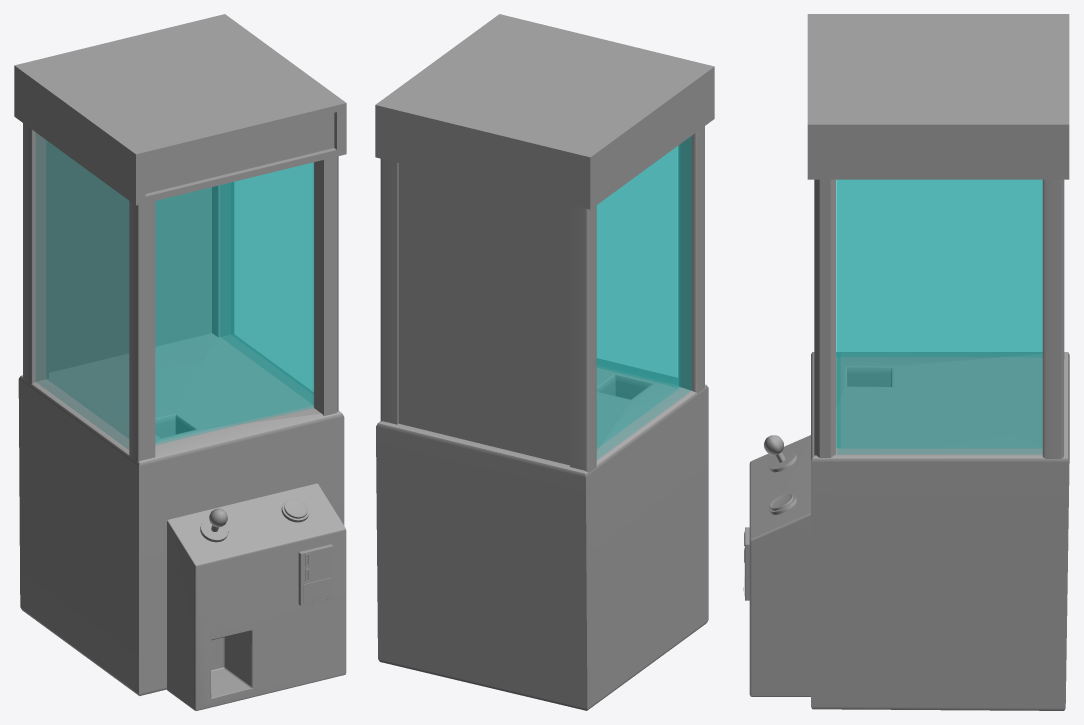
File: Claw_Machine_Full_UV.fbx
3 views of the same model, side by side, from view 1: azimuth 30°, elevation 25°; view 2: azimuth 150°, elevation 25°; view 3: azimuth 270°, elevation 25° (orthographic). The views are drawn at different scales.
Visible parts, largest first — view 1: polySurface3, pCube50, polySurface4, pCube11, pCube30, pCube44, pCube31, pCube27, polySurface5, pCube47, pCube26, pCube48 (+1 smaller); view 2: polySurface3, pCube30, polySurface4, pCube44, pCube50, pCube47, pCube27, pCube48; view 3: polySurface3, pCube31, polySurface4, pCube44, pCube11, pCube48, pCube26, pCube50.
Boxes of the visible parts, box(x1,y1,x2,y2) form: polySurface3: box(18, 333, 344, 695); pCube50: box(155, 162, 313, 444); polySurface4: box(14, 14, 346, 205); pCube11: box(166, 483, 346, 710); pCube30: box(49, 142, 211, 372); pCube44: box(36, 133, 128, 449); pCube31: box(231, 162, 313, 395); pCube27: box(129, 201, 155, 462); polySurface5: box(145, 113, 334, 193); pCube47: box(23, 123, 48, 384); pCube26: box(314, 156, 338, 415); pCube48: box(212, 182, 233, 337); polySurface3: box(376, 358, 708, 710); pCube30: box(398, 163, 569, 465); polySurface4: box(375, 14, 714, 209); pCube44: box(597, 136, 691, 459); pCube50: box(597, 146, 678, 385); pCube47: box(570, 205, 596, 472); pCube27: box(678, 126, 704, 393); pCube48: box(380, 159, 398, 424); polySurface3: box(811, 352, 1069, 710); pCube31: box(837, 180, 1042, 454); polySurface4: box(807, 14, 1069, 179); pCube44: box(841, 180, 1042, 352); pCube11: box(749, 435, 810, 696); pCube48: box(1042, 179, 1063, 458); pCube26: box(814, 179, 835, 457); pCube50: box(836, 180, 840, 447).
Size of the model in its own units: 98.87 by 246 by 123.
